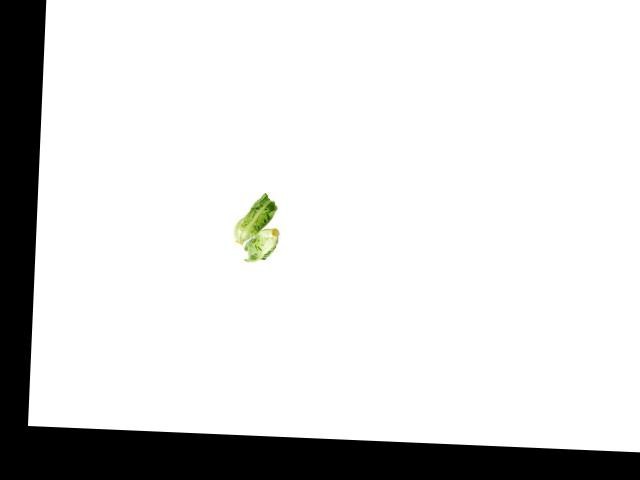lettuce: (242, 224, 285, 265)
